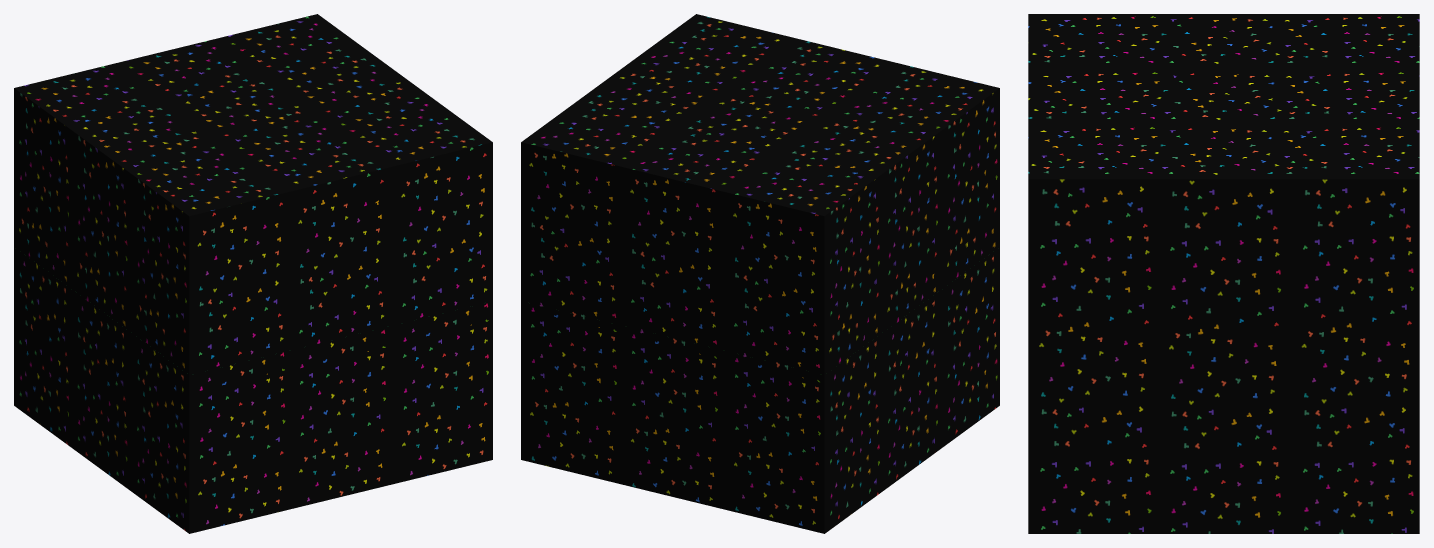
Rendered from firstPerson.glb.
3 views of the same model, side by side, from view 1: azimuth 30°, elevation 25°; view 2: azimuth 150°, elevation 25°; view 3: azimuth 270°, elevation 25° (orthographic). The views are drawn at different scales.
Visible parts, largest first — view 1: Cube; view 2: Cube; view 3: Cube.
Boxes of the visible parts, x1=… form: Cube: x1=14, y1=14, x2=492, y2=533; Cube: x1=521, y1=14, x2=999, y2=533; Cube: x1=1028, y1=14, x2=1419, y2=533.
Size of the model in its own units: 73.79 by 73.77 by 73.79.
Materials: 2 (2 with a texture image).
